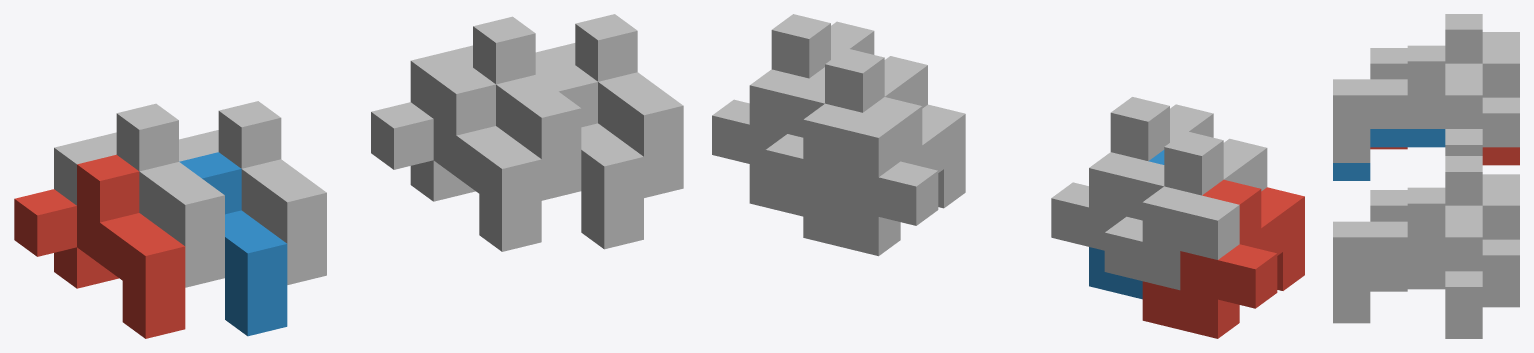
The model's file is tiling.obj.
3 views of the same model, side by side, from view 1: azimuth 30°, elevation 25°; view 2: azimuth 150°, elevation 25°; view 3: azimuth 270°, elevation 25° (orthographic). The views are drawn at different scales.
Visible parts, largest first — view 1: copy_1_domain_1, copy_1_domain_5, copy_1_domain_7, copy_1_domain_3, copy_1_domain_4, copy_1_domain_8, copy_1_domain_6, copy_1_domain_2; view 2: copy_1_domain_3, copy_1_domain_7, copy_1_domain_1, copy_1_domain_5, copy_1_domain_4, copy_1_domain_8, copy_1_domain_6, copy_1_domain_2; view 3: copy_1_domain_8, copy_1_domain_4, copy_1_domain_3, copy_1_domain_7, copy_1_domain_6, copy_1_domain_2, copy_1_domain_1, copy_1_domain_5.
Boxes of the visible parts, x1,y1,x2,y2 form: copy_1_domain_1: [14, 154, 185, 338]; copy_1_domain_5: [371, 68, 541, 251]; copy_1_domain_7: [410, 16, 581, 200]; copy_1_domain_3: [54, 103, 224, 287]; copy_1_domain_4: [179, 101, 326, 284]; copy_1_domain_8: [535, 14, 683, 197]; copy_1_domain_6: [536, 65, 643, 249]; copy_1_domain_2: [179, 152, 287, 336]; copy_1_domain_3: [1104, 131, 1267, 290]; copy_1_domain_7: [765, 48, 927, 207]; copy_1_domain_1: [1142, 179, 1304, 338]; copy_1_domain_5: [803, 97, 965, 256]; copy_1_domain_4: [1051, 97, 1213, 250]; copy_1_domain_8: [712, 14, 874, 167]; copy_1_domain_6: [749, 67, 824, 216]; copy_1_domain_2: [1089, 150, 1164, 299]; copy_1_domain_8: [1333, 187, 1482, 320]; copy_1_domain_4: [1333, 45, 1482, 162]; copy_1_domain_3: [1370, 14, 1519, 147]; copy_1_domain_7: [1370, 156, 1519, 289]; copy_1_domain_6: [1333, 271, 1482, 338]; copy_1_domain_2: [1333, 129, 1445, 180]; copy_1_domain_1: [1370, 147, 1519, 165]; copy_1_domain_5: [1370, 289, 1519, 307].
Size of the model in its own units: 15 by 4 by 5.
